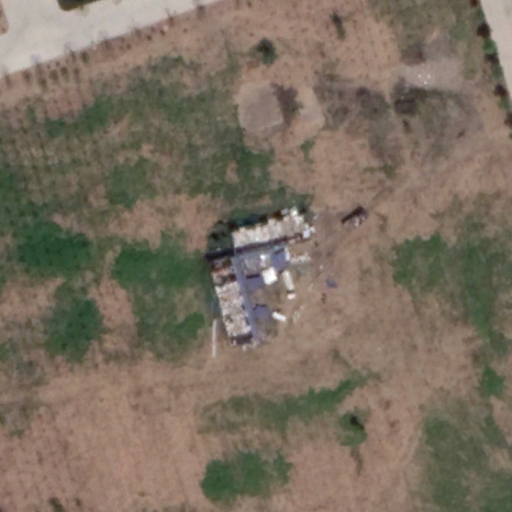msw: (209, 207, 315, 348)
